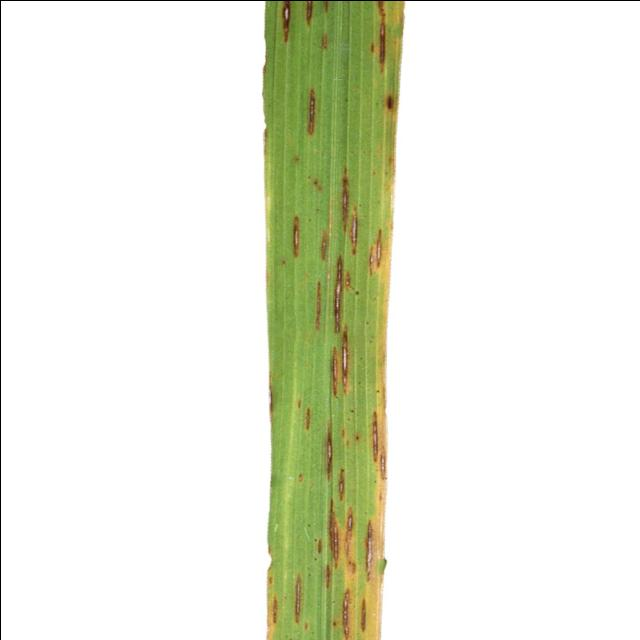Narrow brown: (222, 0, 444, 640)
